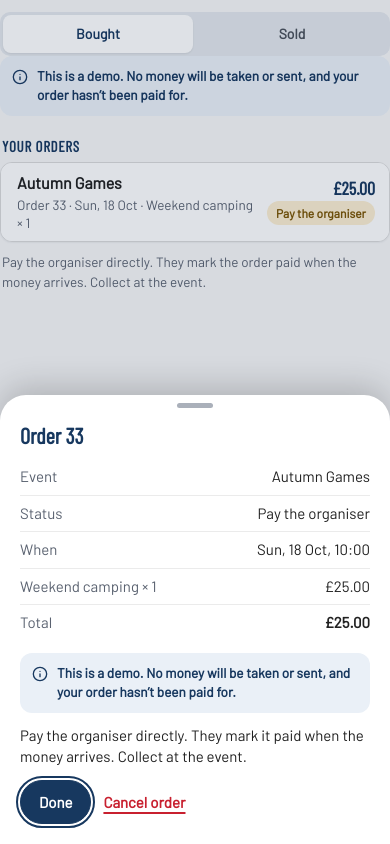
Test: Orders and sales: an order in a sheet › cancels an order after asking
Expected: the dialog is shown, [0, 395, 389, 843]
Click the button "Cancel order" at (144, 802), box [99, 780, 190, 824]
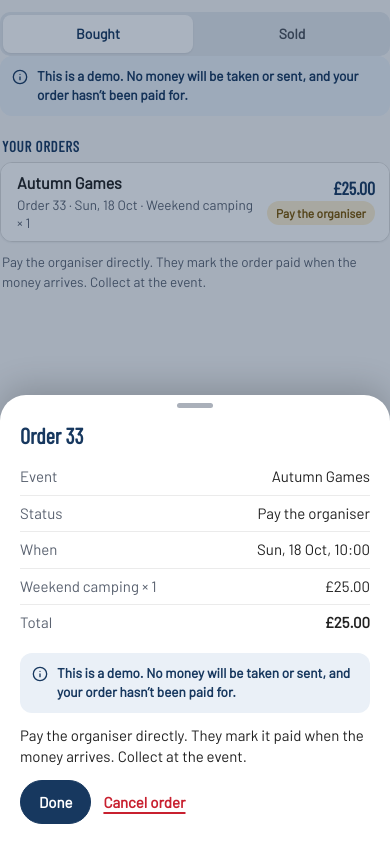
Click the button "Cancel order" at (144, 802), box [99, 780, 190, 824]
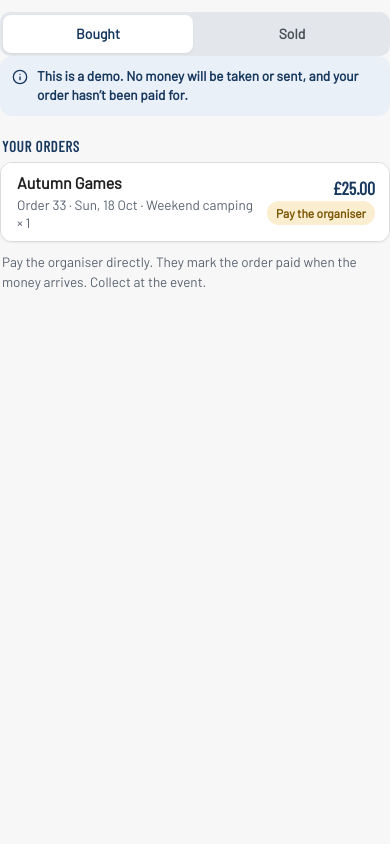
Expected: the dialog is gone
